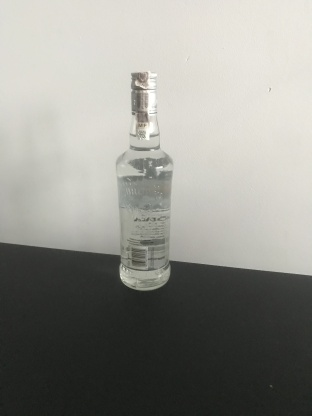nakretka: (129, 69, 158, 116)
